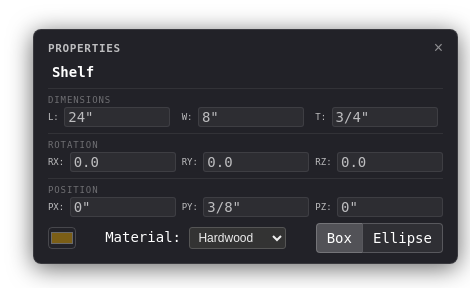
Test: PartPanel › normalises decimal position input to fractional form on blur
Replace the text in the field named "position x" with "3.5" at coordinates (123, 207), box top-left (70, 197), bottom-right (176, 217)
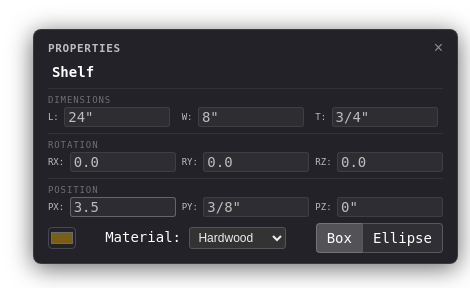
Press Tab
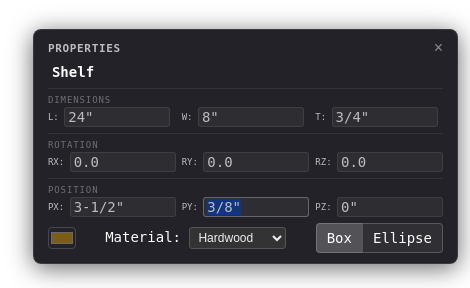
Result: the field named "position x" holds "3-1/2\"" at top-left (70, 197), bottom-right (176, 217)
